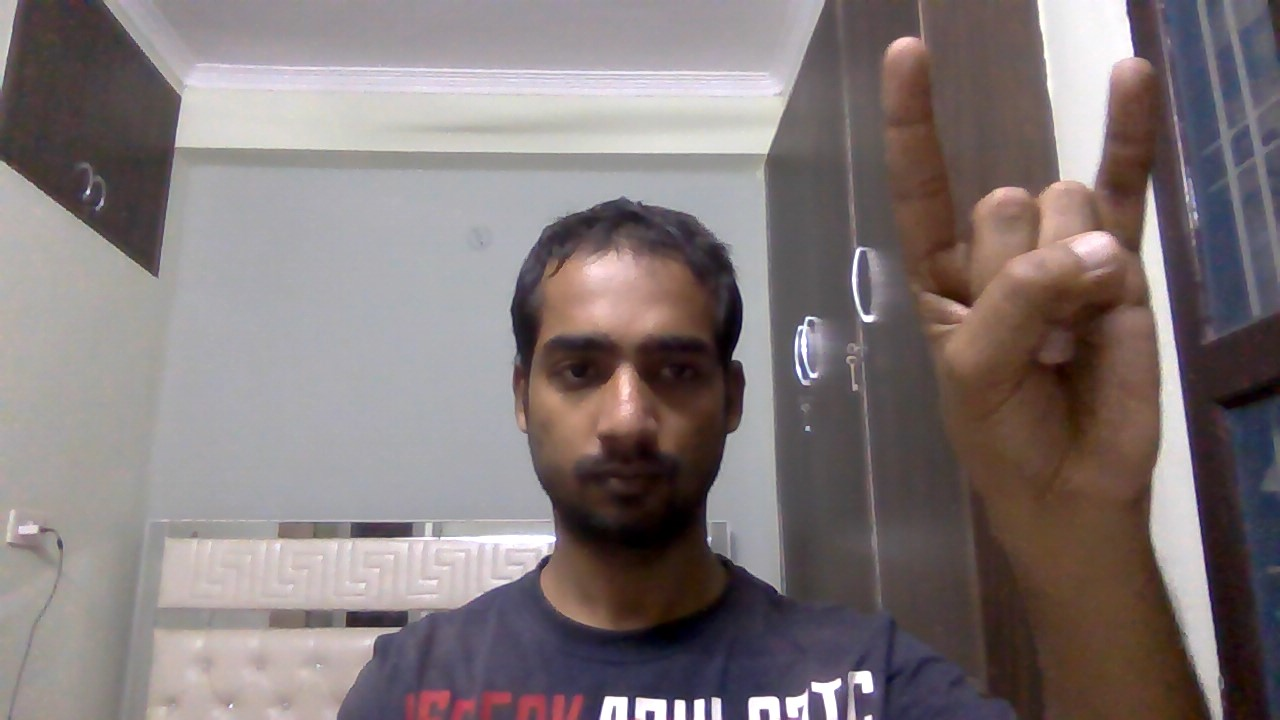Select All: (863, 27, 1209, 528)
